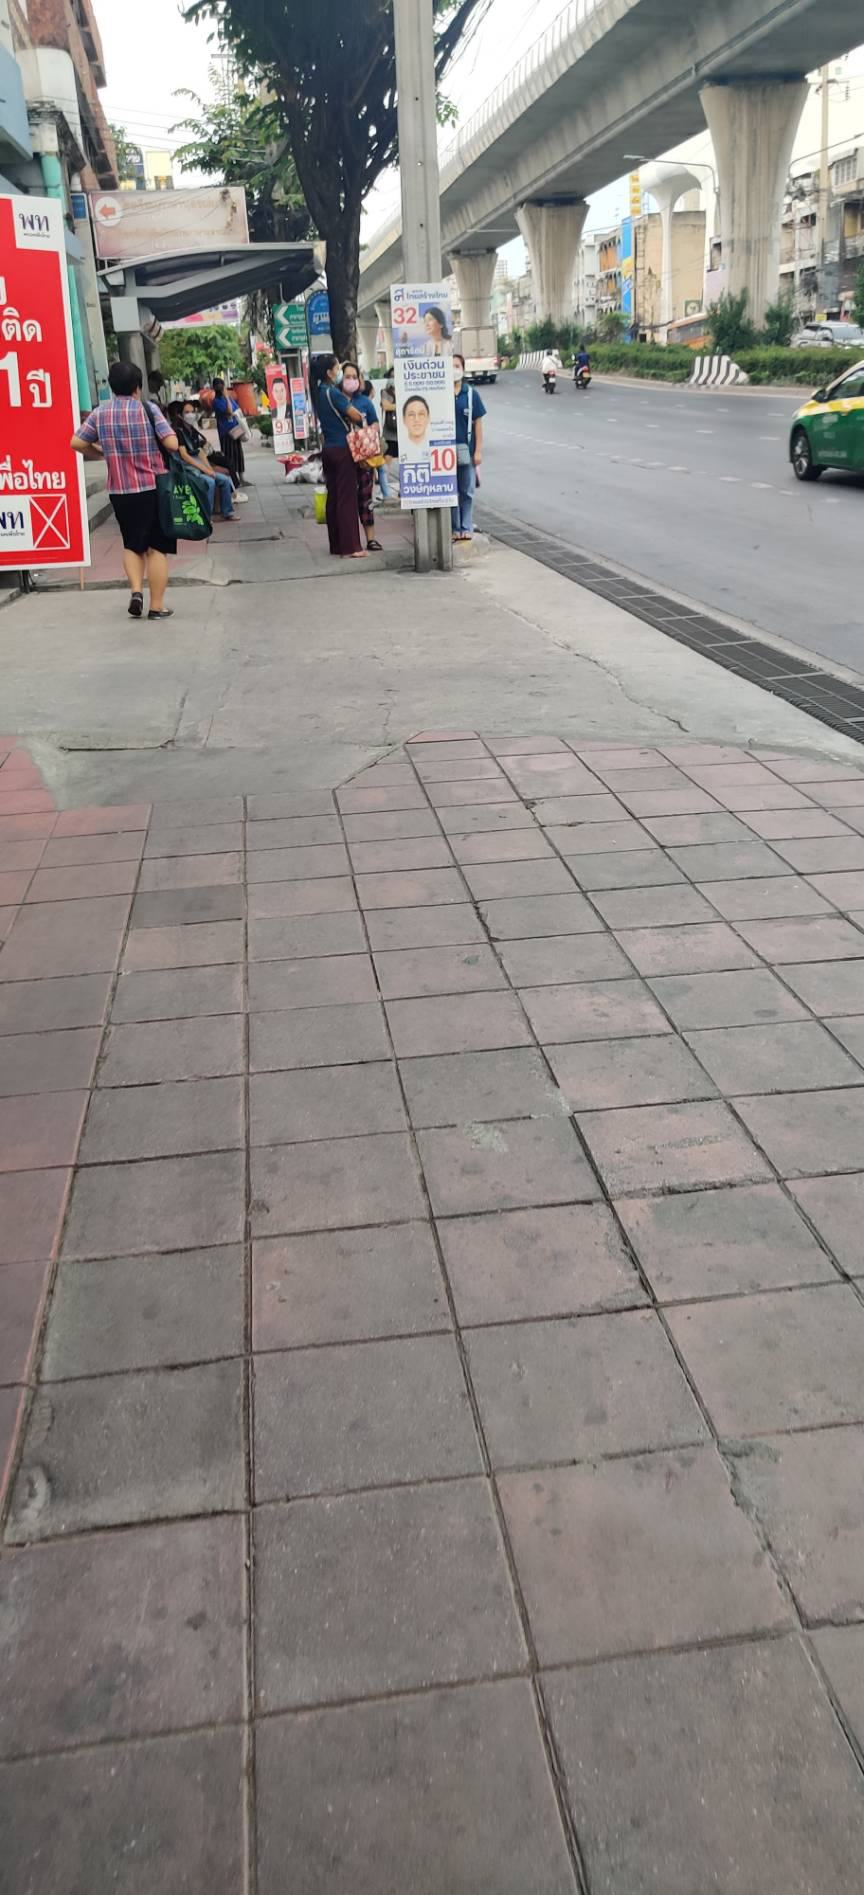Banner: (0, 193, 85, 578), (385, 286, 459, 514)
